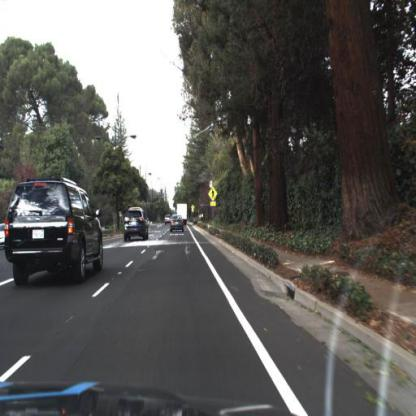car: (5, 177, 108, 285), (124, 205, 150, 243), (171, 213, 186, 233), (164, 213, 174, 230)
truck: (176, 199, 190, 223)
